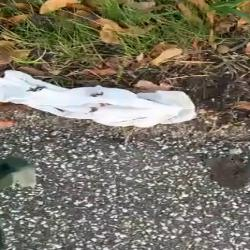Restaffald: (0, 70, 196, 127)
